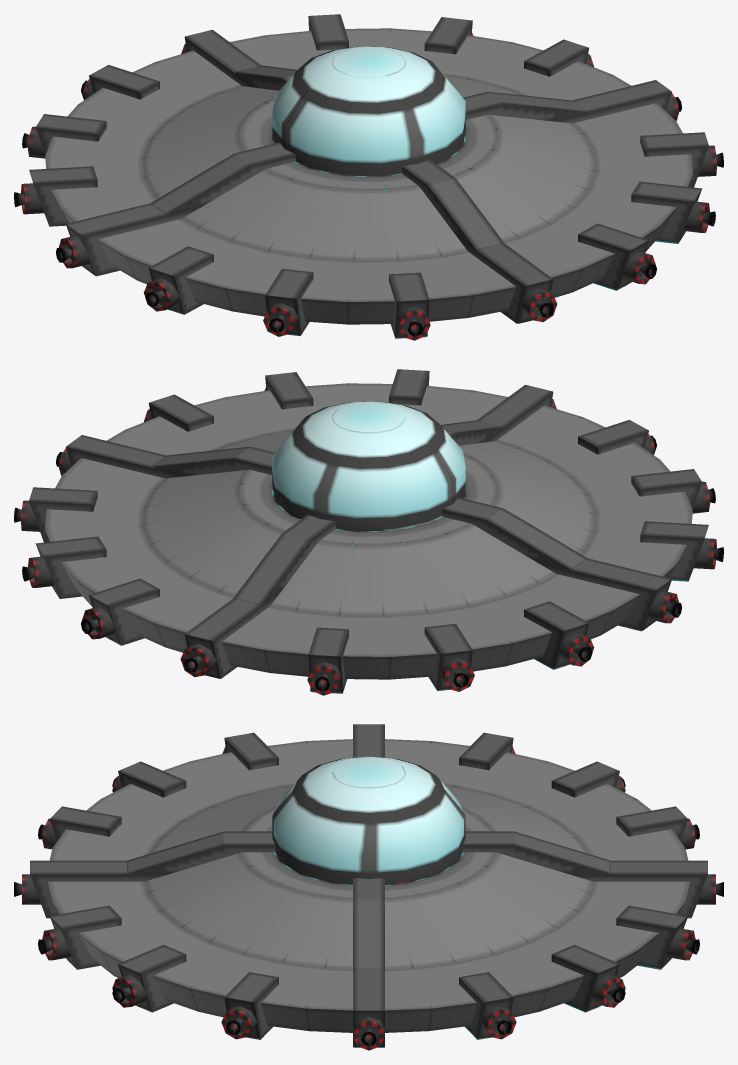
The model's file is ufo.obj.
3 renders of one model, top to bottom at view 1: azimuth 30°, elevation 25°; view 2: azimuth 150°, elevation 25°; view 3: azimuth 270°, elevation 25°, orthographic.
Visible parts, largest first — view 1: Circle_Circle.001; view 2: Circle_Circle.001; view 3: Circle_Circle.001.
Boxes of the visible parts, x1,y1,x2,y2 form: Circle_Circle.001: (14, 14, 723, 340); Circle_Circle.001: (14, 369, 723, 695); Circle_Circle.001: (14, 724, 723, 1050).
Bounding box in the file's own units: 11 × 2.75 × 11.
